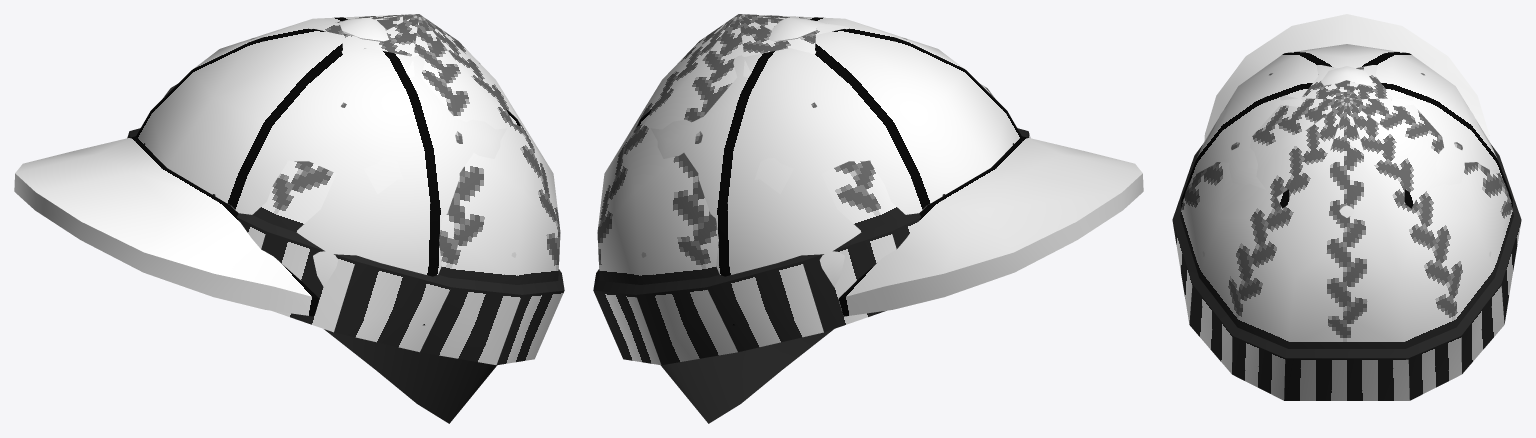
The model's file is special.obj.
3 views of the same model, side by side, from view 1: azimuth 30°, elevation 25°; view 2: azimuth 150°, elevation 25°; view 3: azimuth 270°, elevation 25° (orthographic). The views are drawn at different scales.
Parts seen in each view (by area): view 1: Cap_Mesh_0005.rip_mesh0000.090_Cap_Mesh_0005.rip_mesh0000.001, Beanie_Mesh_0005.rip_mesh0000.001_Beanie_Mesh_0005.rip_mesh0000.; view 2: Cap_Mesh_0005.rip_mesh0000.090_Cap_Mesh_0005.rip_mesh0000.001, Beanie_Mesh_0005.rip_mesh0000.001_Beanie_Mesh_0005.rip_mesh0000.; view 3: Beanie_Mesh_0005.rip_mesh0000.001_Beanie_Mesh_0005.rip_mesh0000., Cap_Mesh_0005.rip_mesh0000.090_Cap_Mesh_0005.rip_mesh0000.001.
Part boxes in pixels (<box>): Cap_Mesh_0005.rip_mesh0000.090_Cap_Mesh_0005.rip_mesh0000.001: <box>14,16,520,423</box>; Beanie_Mesh_0005.rip_mesh0000.001_Beanie_Mesh_0005.rip_mesh0000.: <box>127,14,564,365</box>; Cap_Mesh_0005.rip_mesh0000.090_Cap_Mesh_0005.rip_mesh0000.001: <box>637,16,1143,423</box>; Beanie_Mesh_0005.rip_mesh0000.001_Beanie_Mesh_0005.rip_mesh0000.: <box>593,14,1030,365</box>; Beanie_Mesh_0005.rip_mesh0000.001_Beanie_Mesh_0005.rip_mesh0000.: <box>1172,65,1521,400</box>; Cap_Mesh_0005.rip_mesh0000.090_Cap_Mesh_0005.rip_mesh0000.001: <box>1181,14,1512,256</box>.
Bounding box in the file's own units: 0.8311 × 0.6372 × 0.6073.
3 materials, 2 textured.
